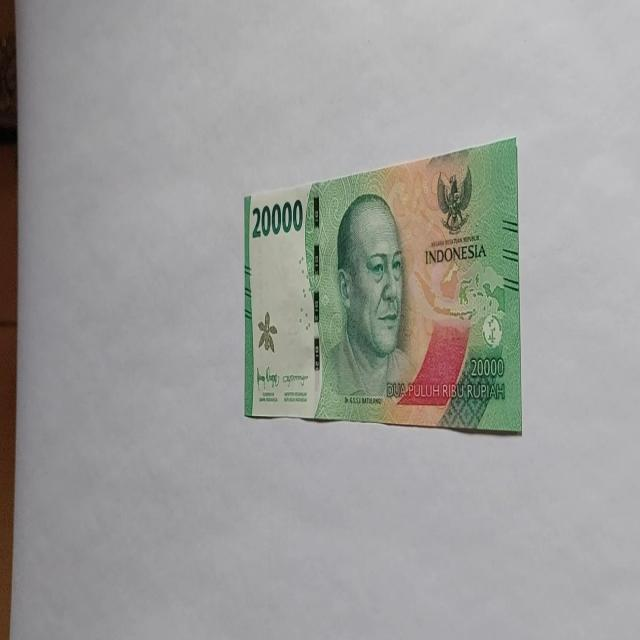dua puluh ribu rupiah: (243, 135, 522, 434), (314, 191, 420, 421)
